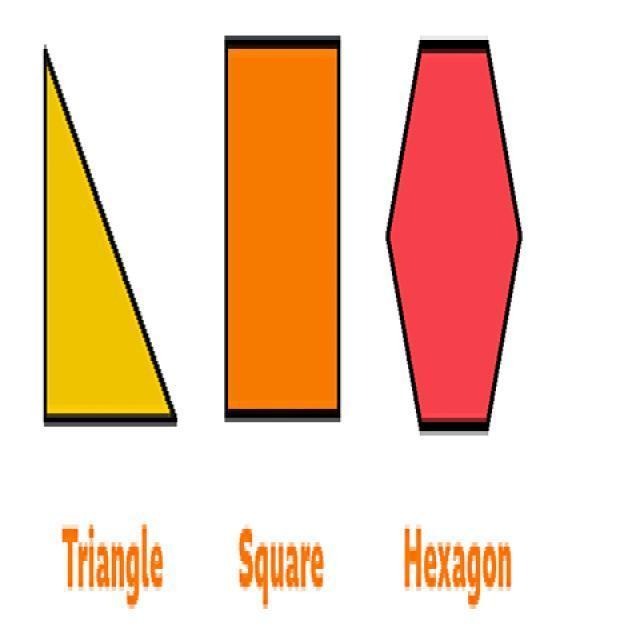square: (210, 23, 363, 436)
triangle: (14, 30, 184, 449)
